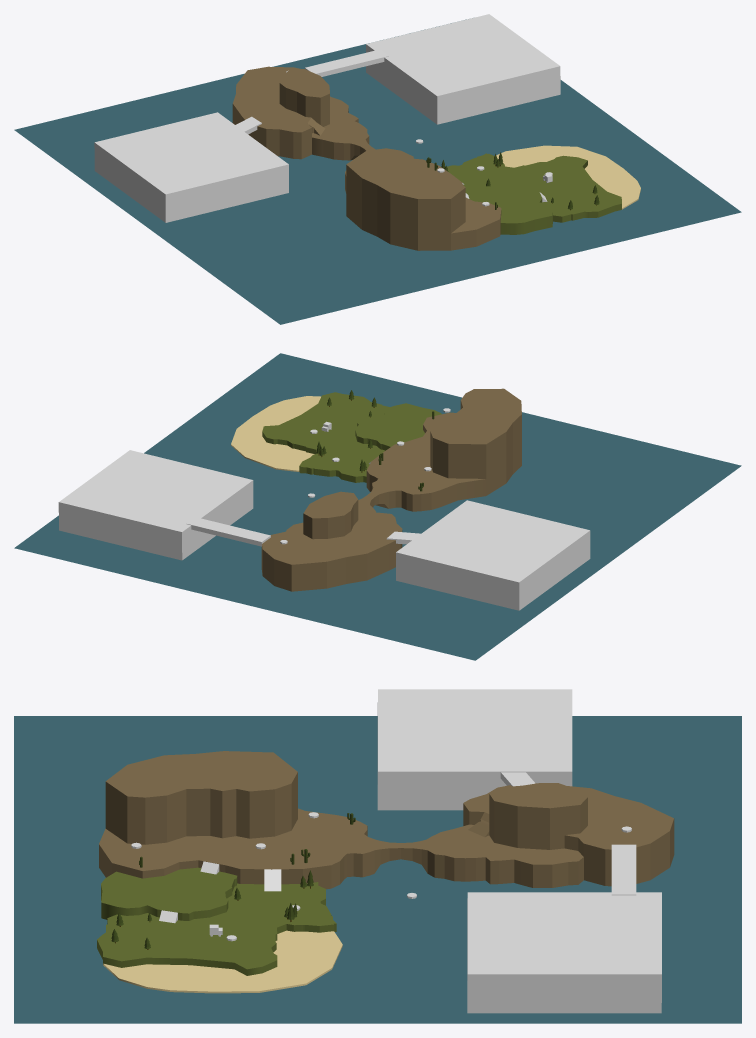
The model's file is Map.fbx.
3 renders of one model, top to bottom at view 1: azimuth 30°, elevation 25°; view 2: azimuth 150°, elevation 25°; view 3: azimuth 270°, elevation 25°, orthographic. The views are drawn at different scales.
Visible parts, largest first — view 1: Water, Sand_map, New_map1, New_map, Grass_map, Beach_map, New_bridge1; view 2: Water, Sand_map, New_map1, New_map, Grass_map, Beach_map, New_bridge1; view 3: Water, Sand_map, New_map, New_map1, Grass_map, Beach_map, New_bridge1.
Boxes of the visible parts, bbox=[...] form: Water: bbox=[14, 19, 741, 324]; Sand_map: bbox=[232, 66, 501, 250]; New_map1: bbox=[94, 112, 288, 222]; New_map: bbox=[366, 14, 560, 124]; Grass_map: bbox=[447, 153, 621, 234]; Beach_map: bbox=[496, 145, 640, 209]; New_bridge1: bbox=[305, 49, 388, 76]; Water: bbox=[14, 353, 741, 660]; Sand_map: bbox=[261, 388, 521, 591]; New_map1: bbox=[396, 500, 590, 610]; New_map: bbox=[58, 450, 253, 560]; Grass_map: bbox=[262, 392, 441, 482]; Beach_map: bbox=[231, 396, 320, 471]; New_bridge1: bbox=[187, 517, 270, 546]; Water: bbox=[14, 716, 741, 1023]; Sand_map: bbox=[99, 751, 674, 889]; New_map: bbox=[467, 892, 661, 1013]; New_map1: bbox=[377, 689, 572, 810]; Grass_map: bbox=[97, 867, 336, 975]; Beach_map: bbox=[103, 930, 342, 993]; New_bridge1: bbox=[611, 844, 636, 895].
Size of the model in its own units: 128 by 13.99 by 128.
